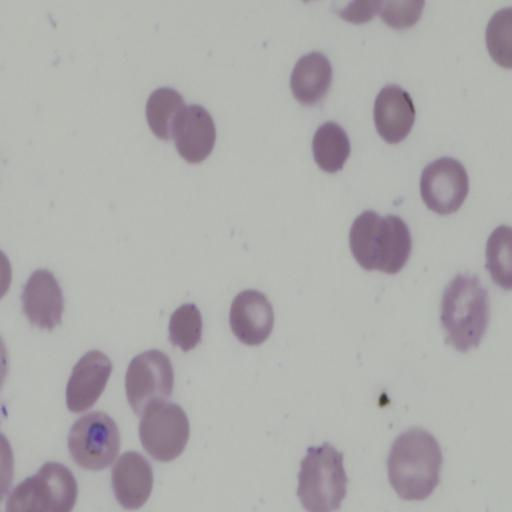Infected: (68, 411, 120, 471)
Uninfected: (442, 270, 494, 354), (387, 426, 441, 499), (352, 210, 413, 274), (127, 350, 175, 422), (299, 443, 348, 512), (140, 400, 188, 463), (66, 348, 110, 414), (420, 157, 469, 214), (22, 267, 66, 330), (113, 450, 155, 512), (373, 83, 415, 145), (172, 106, 216, 165), (229, 287, 273, 345), (147, 83, 190, 142), (292, 51, 333, 99), (167, 303, 203, 353), (314, 121, 350, 171)
